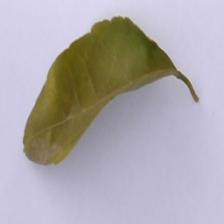black spot: (22, 122, 62, 169)
